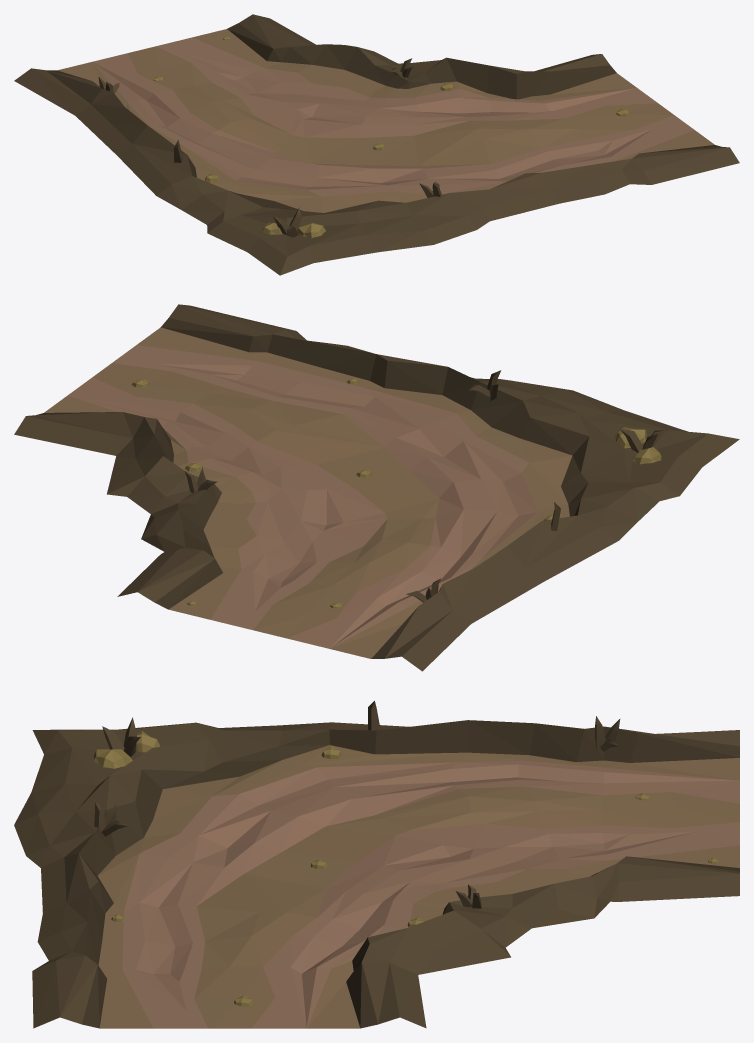
Rendered from SM_Env_Road_Corner_01.fbx.
The picture shows the model from 3 angles, top to bottom: view 1: azimuth 30°, elevation 25°; view 2: azimuth 150°, elevation 25°; view 3: azimuth 270°, elevation 25°; orthographic projection. The views are drawn at different scales.
Parts seen in each view (by area): view 1: SM_Env_Road_Corner_01; view 2: SM_Env_Road_Corner_01; view 3: SM_Env_Road_Corner_01.
Boxes of the visible parts, x1,y1,x2,y2 form: SM_Env_Road_Corner_01: [14, 14, 739, 275]; SM_Env_Road_Corner_01: [14, 304, 739, 671]; SM_Env_Road_Corner_01: [14, 700, 739, 1028].
Size of the model in its own units: 0.0639 by 0.00518 by 0.0641.
1 material, 1 textured.
